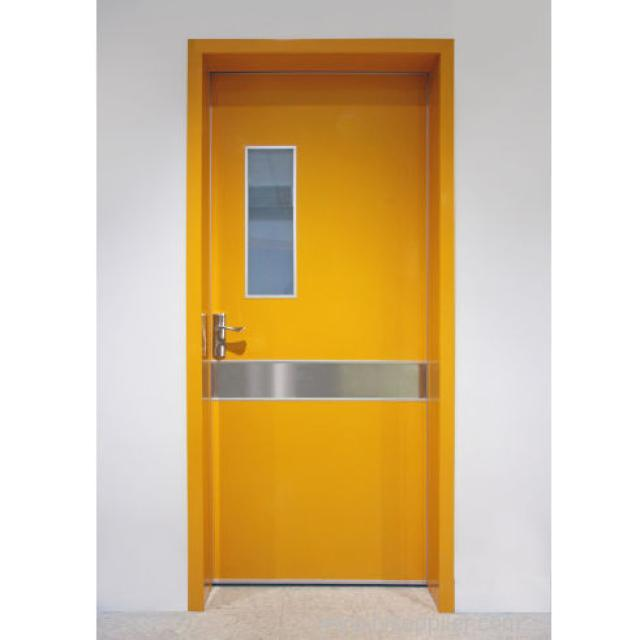door: (188, 39, 456, 614)
